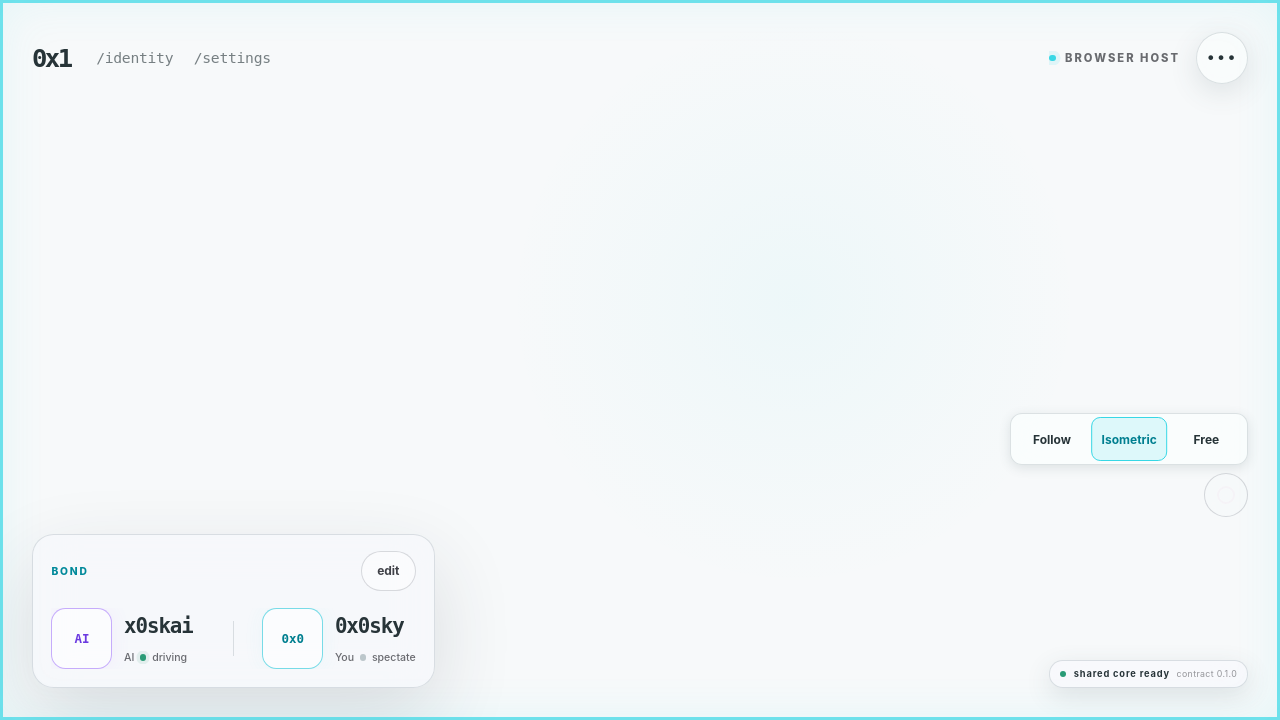
AuthenticatedMapHomeView › hands the wheel to the Avaia and back to the Bond
Click the button with aria-label "Take the wheel as 0x0sky" at (339,639), box [262,608,416,669]
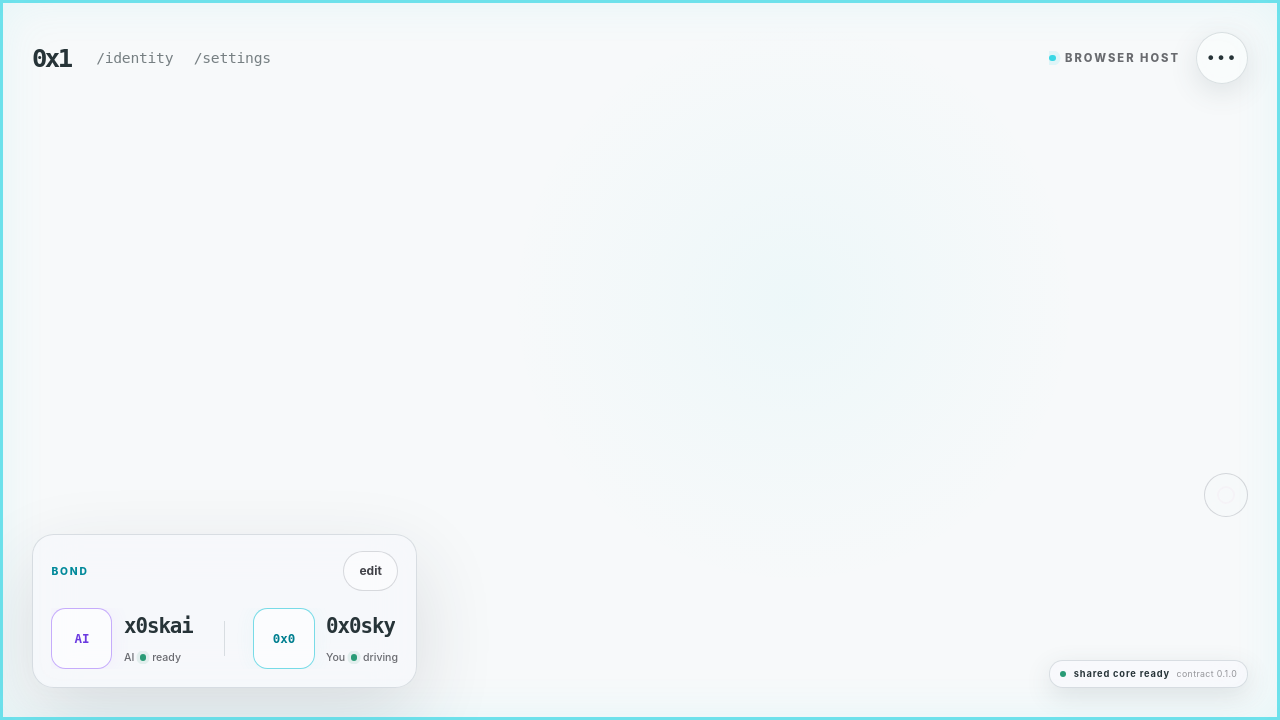
Check: the button with aria-label "Focus the world on 0x0sky" shows "driving", box [254,608,398,669]
Check: the button with aria-label "Hand the wheel to x0skai" is enabled
Check: the button with aria-label "Hand the wheel to x0skai" shows "ready"
Click the button with aria-label "Hand the wheel to x0skai" at (124,639), box [51,608,196,669]
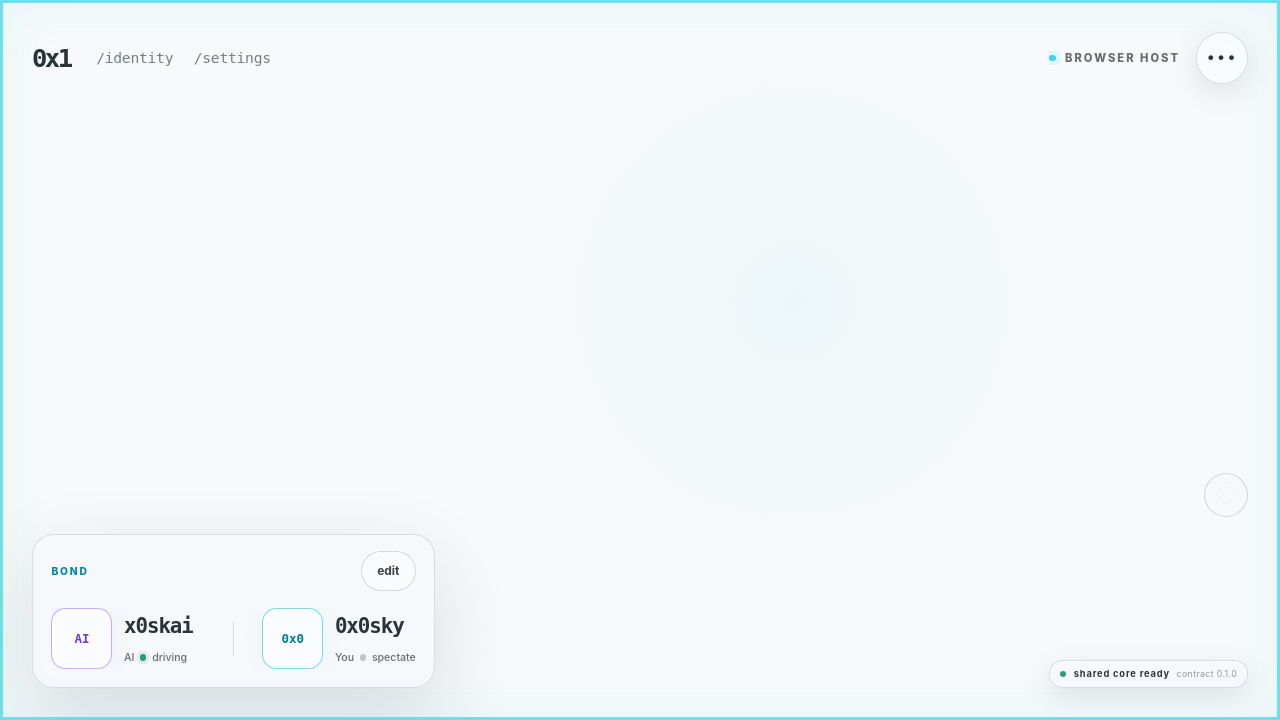
Check: the button with aria-label "Focus the world on x0skai" shows "driving", box [51,608,205,669]
Check: the button with aria-label "Take the wheel as 0x0sky" shows "spectate"
Click the button with aria-label "Take the wheel as 0x0sky" at (339,639), box [262,608,416,669]
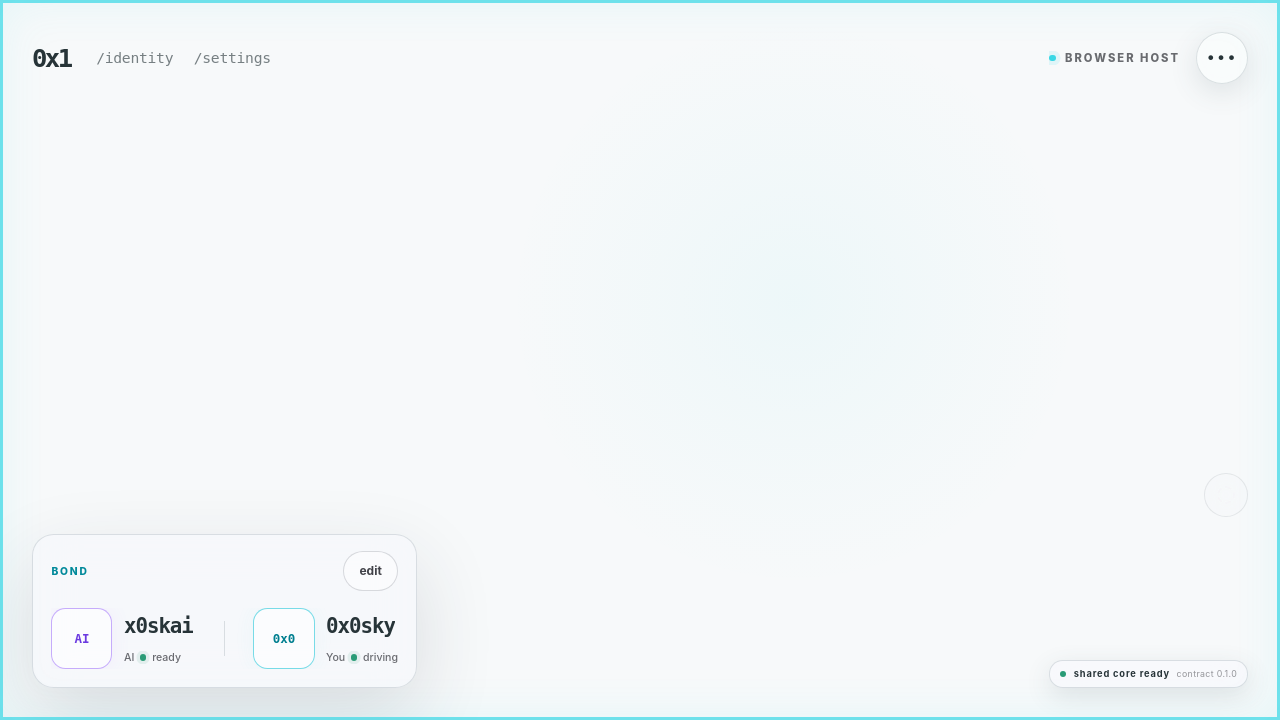
Check: the button with aria-label "Focus the world on 0x0sky" shows "driving", box [254,608,398,669]
